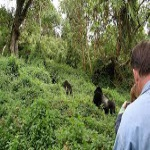Uncultivated: (2, 55, 131, 150)
